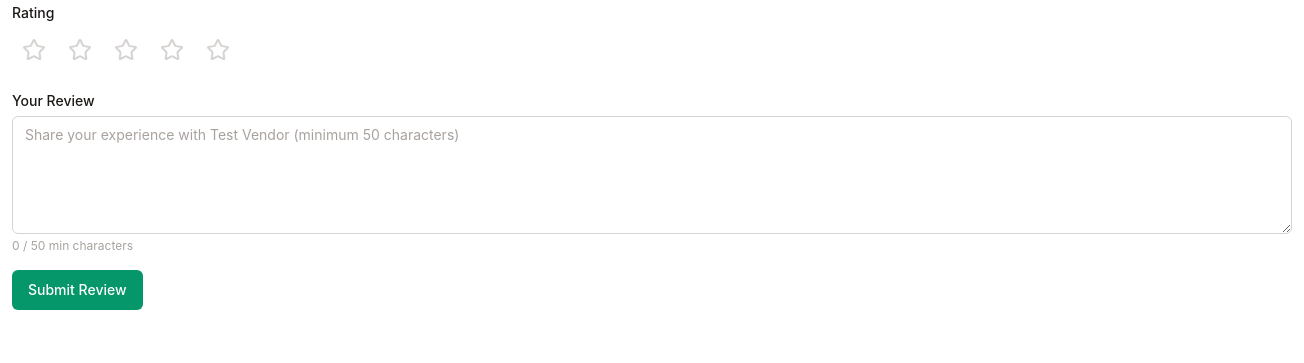
it: ReviewForm › shows API error
Click the button named "4 stars" at coordinates (172, 50), box 150,28 -> 194,72
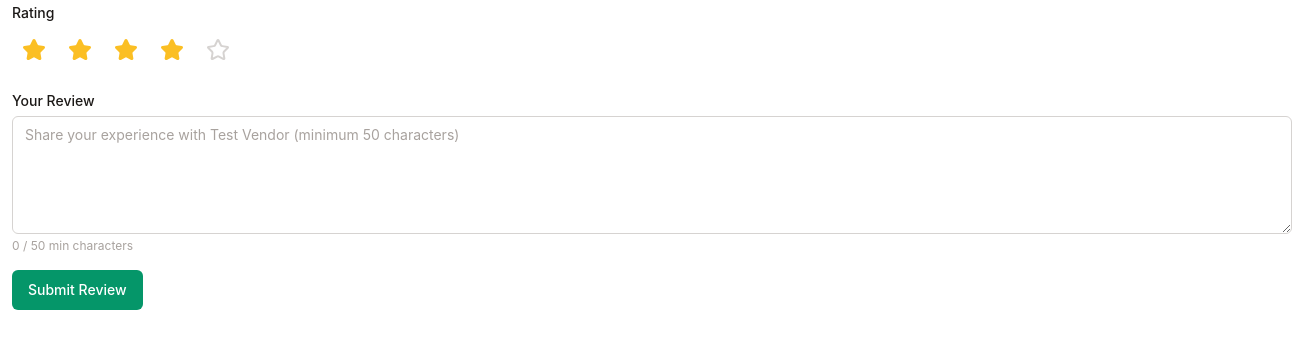
Replace the text in the text box labelled "Your Review" with "This vendor provided excellent catering for our wedding. Would recommend!" at coordinates (652, 175), box 12,116 -> 1292,234
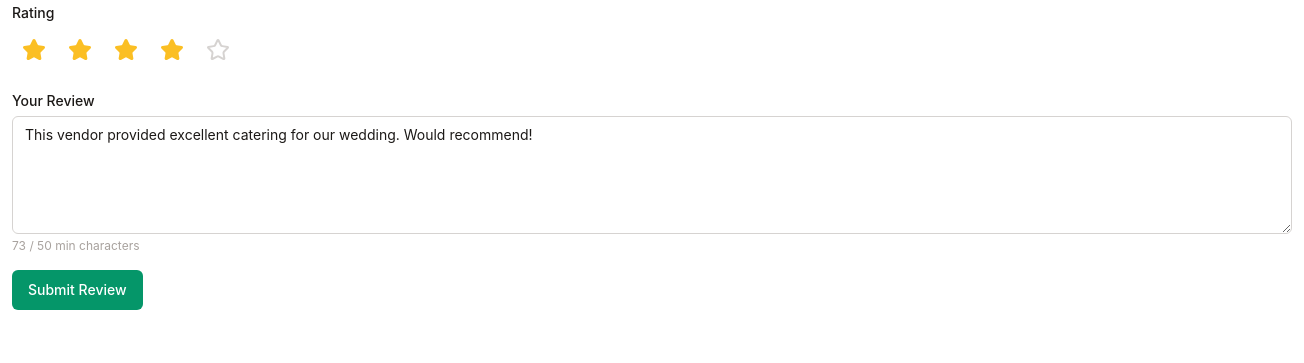
Submit the form "Rating Your Review 73 / 50 min characters Submit Review"
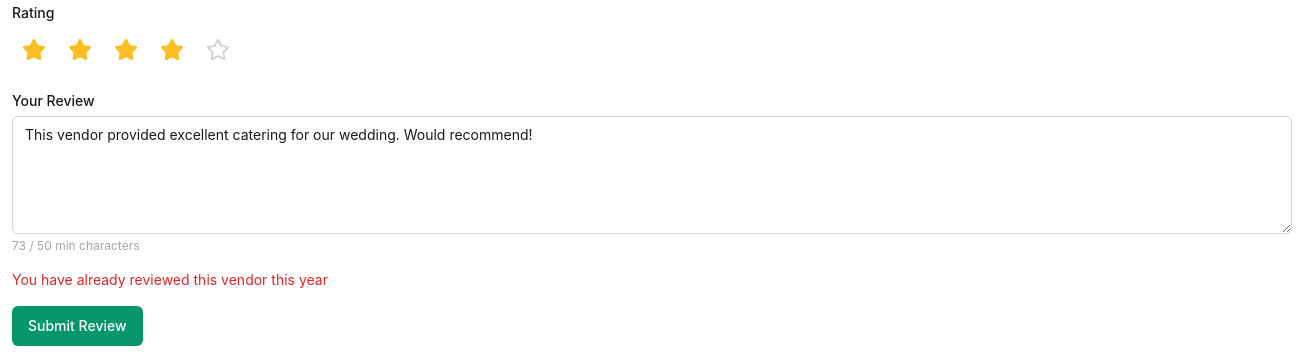
Expected: the text "You have already reviewed this vendor this year" is shown, 12,271 -> 328,288
